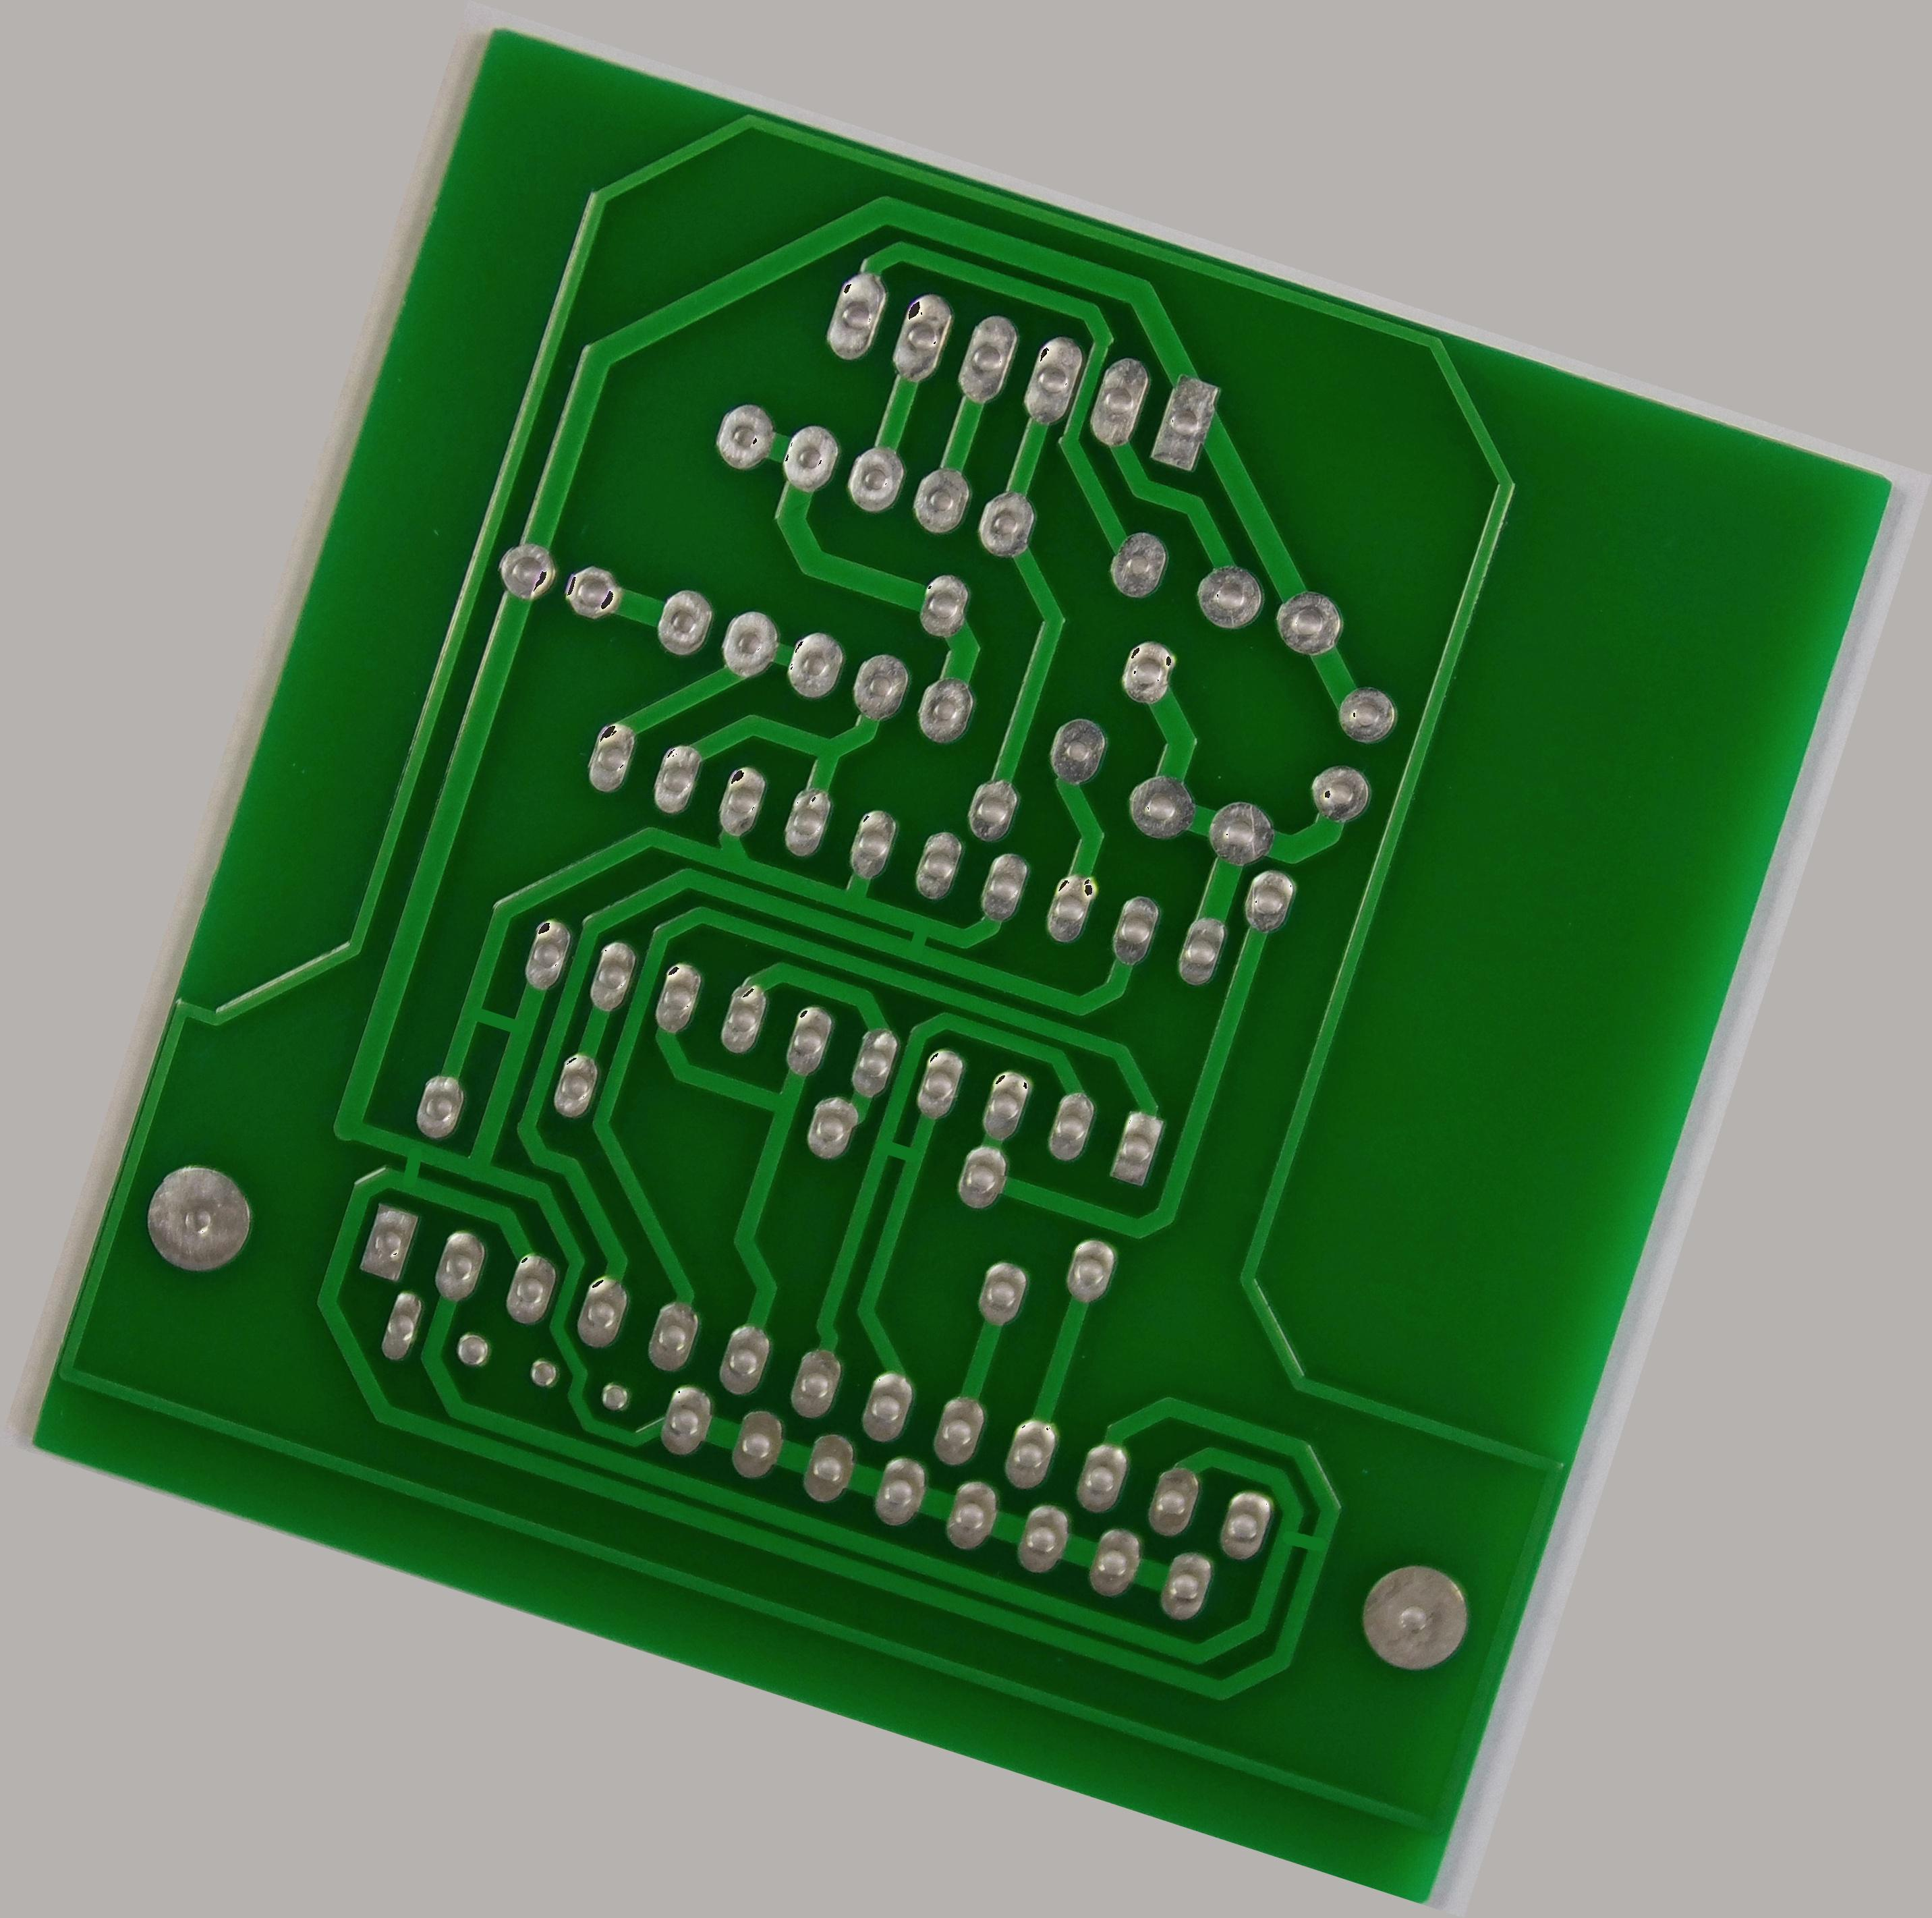short: (439, 985, 546, 1054), (379, 1124, 441, 1208), (887, 898, 954, 973), (854, 1124, 945, 1179), (1263, 1511, 1342, 1570)
